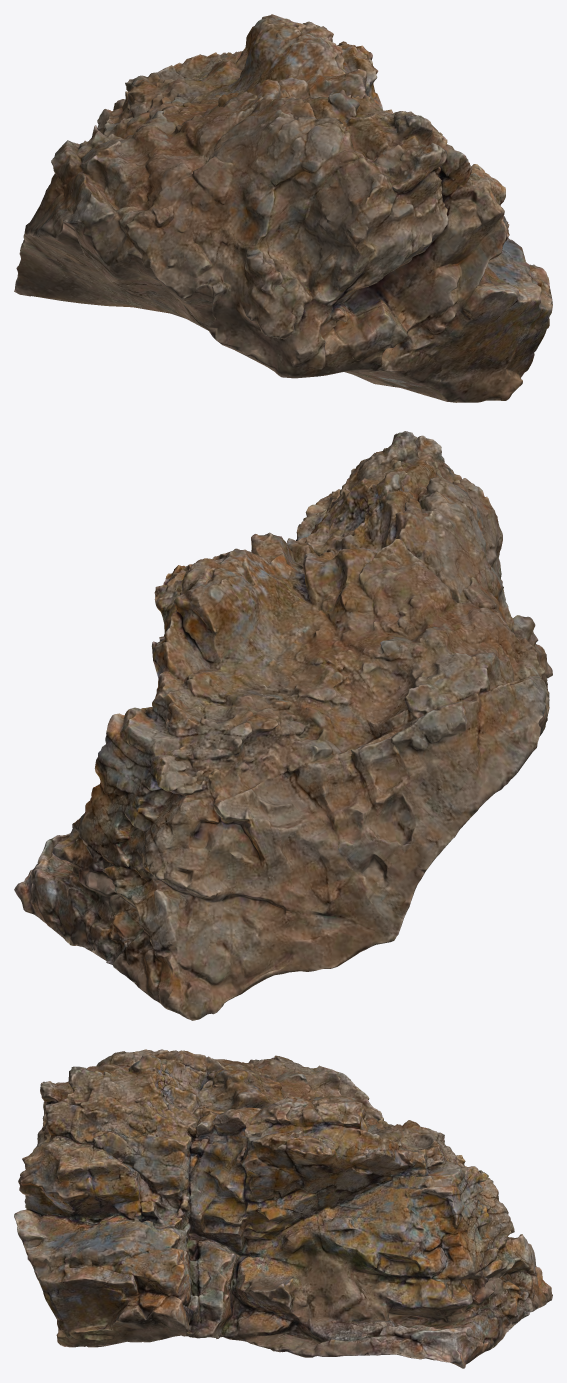
Rendered from boulder_01.gltf.
3 views of the same model, one above another, from view 1: azimuth 30°, elevation 25°; view 2: azimuth 150°, elevation 25°; view 3: azimuth 270°, elevation 25° (orthographic). The views are drawn at different scales.
Visible parts, largest first — view 1: boulder_01; view 2: boulder_01; view 3: boulder_01.
Boxes of the visible parts, <box> form: boulder_01: <box>14,14,552,402</box>; boulder_01: <box>14,431,552,1020</box>; boulder_01: <box>14,1049,552,1368</box>.
Size of the model in its own units: 1.27 by 1 by 1.83.
1 material, 1 textured.
